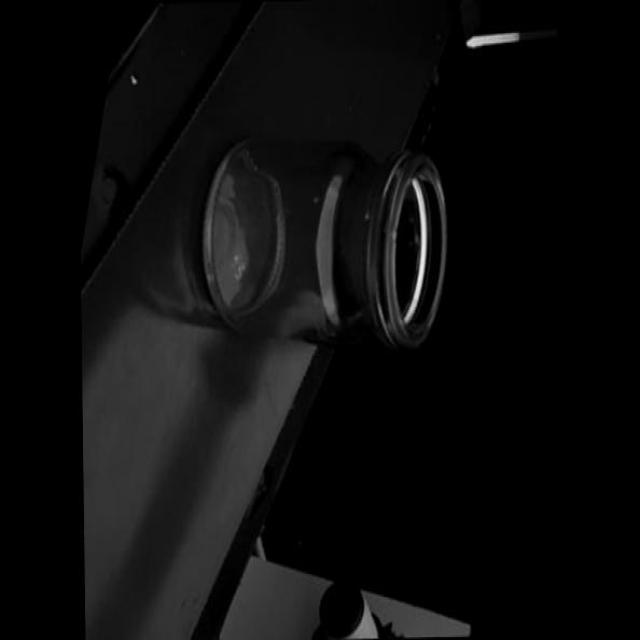defect: (380, 211, 403, 254), (360, 193, 376, 229)
glass: (182, 82, 474, 399)
